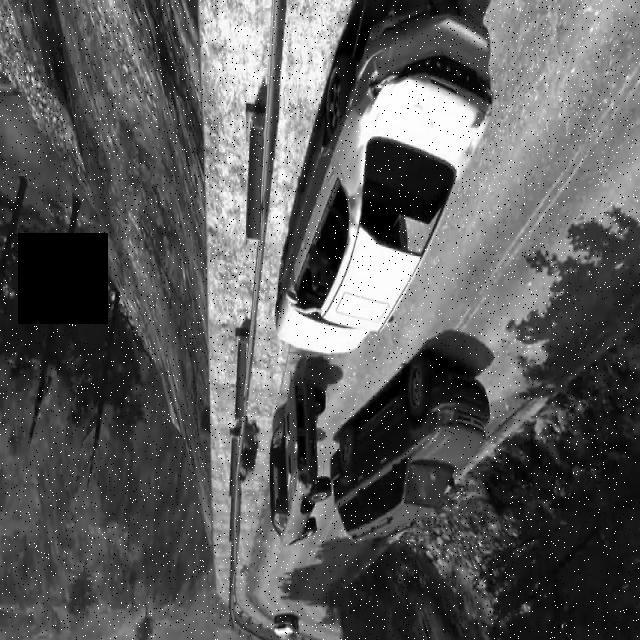severe: (266, 371, 337, 553)
